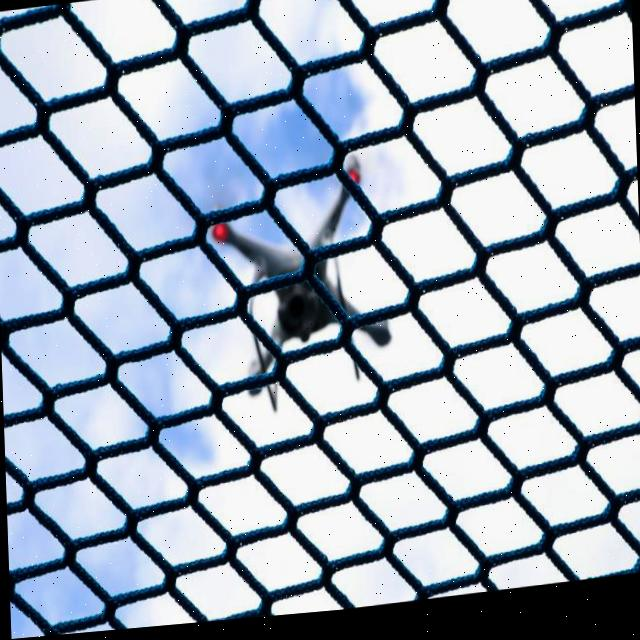drone: (199, 148, 396, 403)
